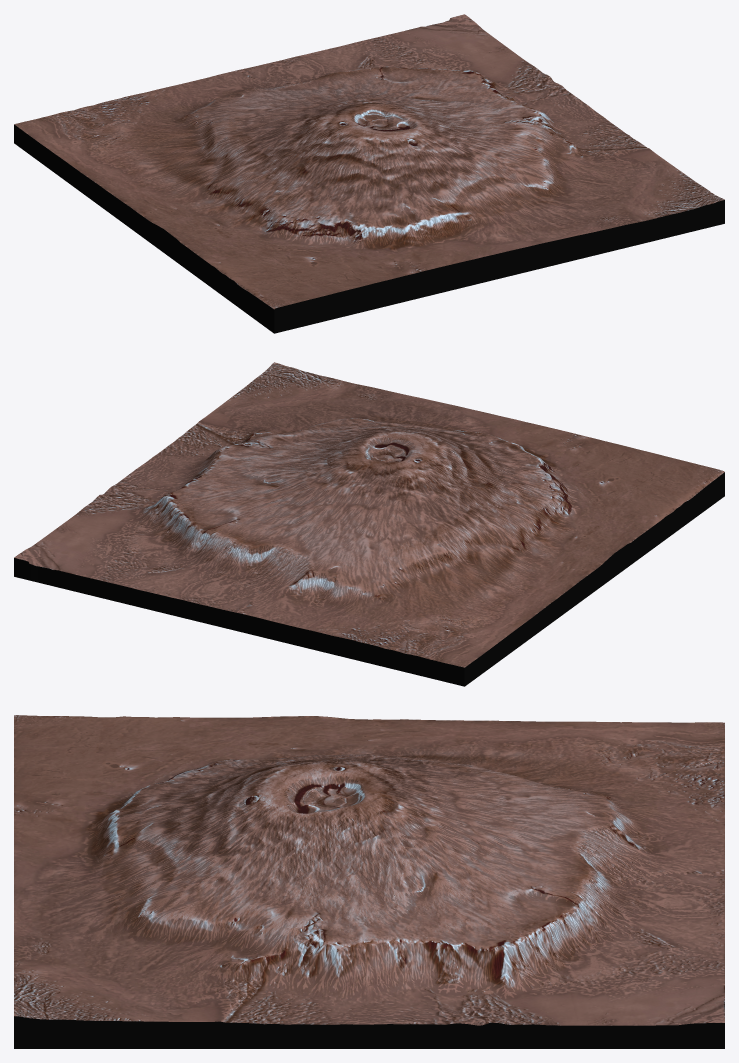
Rendered from mars-olympus-mons.fbx.
3 renders of one model, top to bottom at view 1: azimuth 30°, elevation 25°; view 2: azimuth 150°, elevation 25°; view 3: azimuth 270°, elevation 25°, orthographic. The views are drawn at different scales.
Visible parts, largest first — view 1: OlympusMons_LP_1_0, OlympusMons_LP_2_0; view 2: OlympusMons_LP_1_0, OlympusMons_LP_2_0; view 3: OlympusMons_LP_1_0, OlympusMons_LP_2_0.
Part boxes in pixels (x1,y1,x2,y2): OlympusMons_LP_1_0: (14,14,724,309); OlympusMons_LP_2_0: (14,124,724,333); OlympusMons_LP_1_0: (14,362,724,667); OlympusMons_LP_2_0: (14,472,724,686); OlympusMons_LP_1_0: (14,715,724,1025); OlympusMons_LP_2_0: (14,1002,724,1048).
Bounding box in the file's own units: 190 × 31.44 × 190.
Materials: 2 (1 with a texture image).
